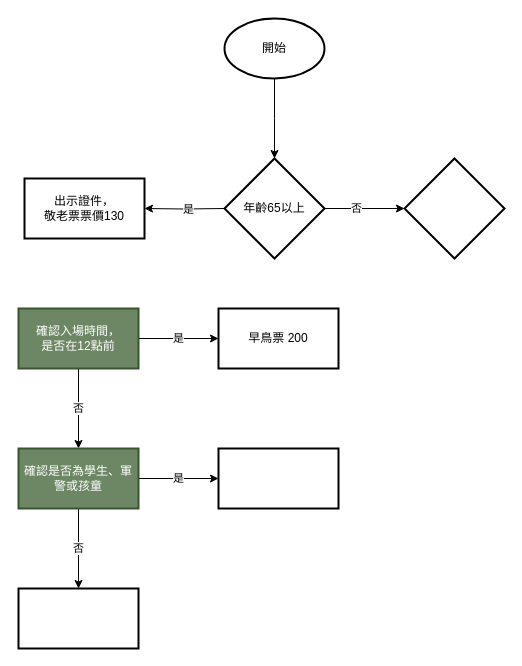
The diagram is 522 pixels wide and 666 high, and some of its shapes have lost their labels. Each missing label, with the centre of its shape:
"學生、軍警出示證件，孩童測量身高，優待票230" goes at (x=278, y=478).
"成人票260" goes at (x=78, y=618).
"確認入場時間 中午12點" goes at (x=454, y=208).
